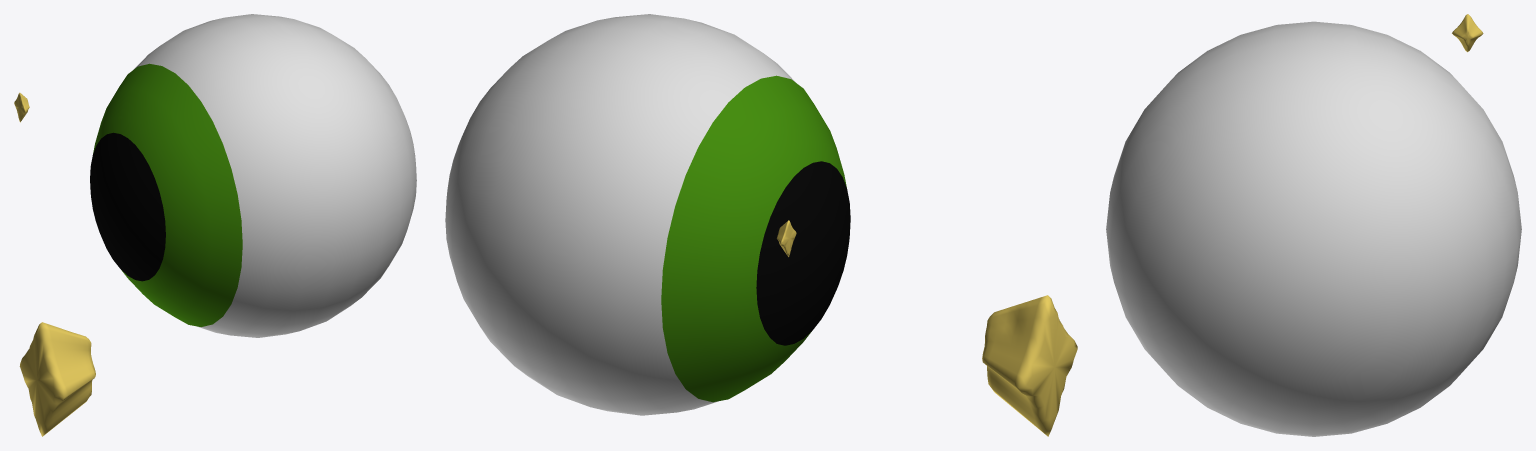
File: Eye_Am_Happy_Adult.obj
3 renders of one model, left to right at view 1: azimuth 30°, elevation 25°; view 2: azimuth 150°, elevation 25°; view 3: azimuth 270°, elevation 25°, orthographic. The views are drawn at different scales.
Parts seen in each view (by area): view 1: Eye, Sparkle_2; view 2: Eye, Sparkle_2; view 3: Eye, Sparcle_1.
Boxes of the visible parts, x1=… form: Eye: x1=90, y1=14, x2=416, y2=337; Sparkle_2: x1=19, y1=322, x2=95, y2=436; Eye: x1=445, y1=14, x2=850, y2=415; Sparkle_2: x1=982, y1=295, x2=1077, y2=436; Eye: x1=1106, y1=21, x2=1521, y2=436; Sparcle_1: x1=1452, y1=14, x2=1483, y2=52.
Size of the model in its own units: 88.96 by 61.8 by 60.24.
